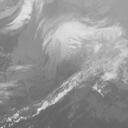cyclone: (32, 22, 101, 95)
